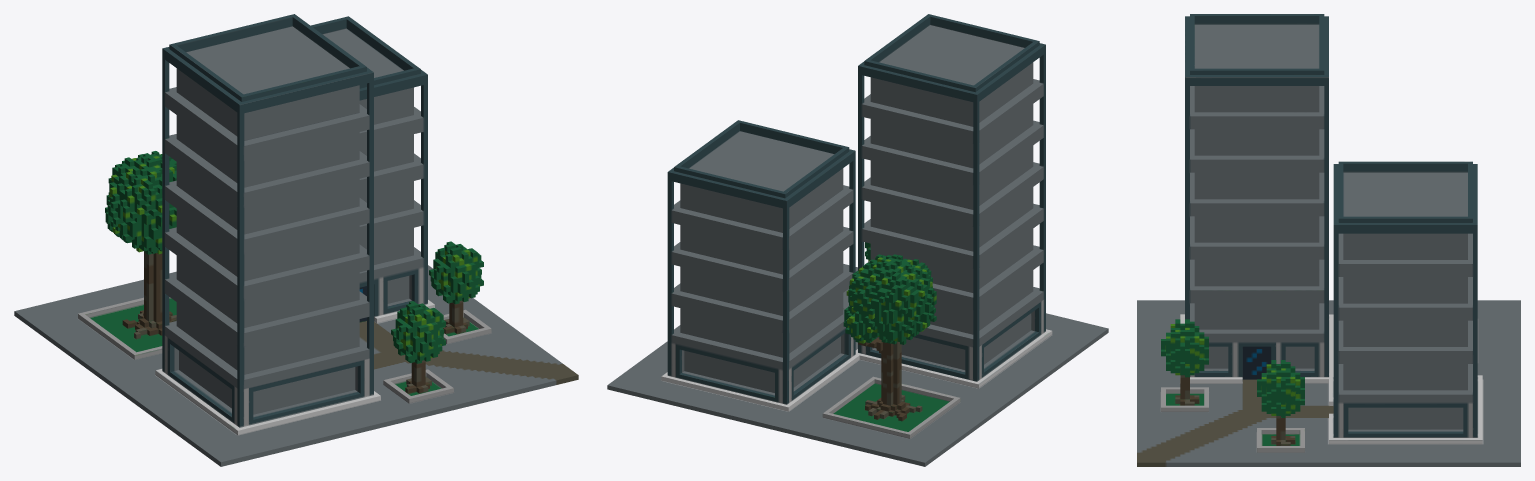
The model's file is building_big_3_overtile.glb.
3 renders of one model, left to right at view 1: azimuth 30°, elevation 25°; view 2: azimuth 150°, elevation 25°; view 3: azimuth 270°, elevation 25°, orthographic. The views are drawn at different scales.
Parts seen in each view (by area): view 1: building_big_3_overtile; view 2: building_big_3_overtile; view 3: building_big_3_overtile.
Boxes of the visible parts, box(x1,y1,x2,y2) form: building_big_3_overtile: box(14, 14, 578, 466); building_big_3_overtile: box(607, 14, 1108, 466); building_big_3_overtile: box(1137, 14, 1520, 466).
Size of the model in its own units: 8 by 7.2 by 8.
Materials: 1 (1 with a texture image).
